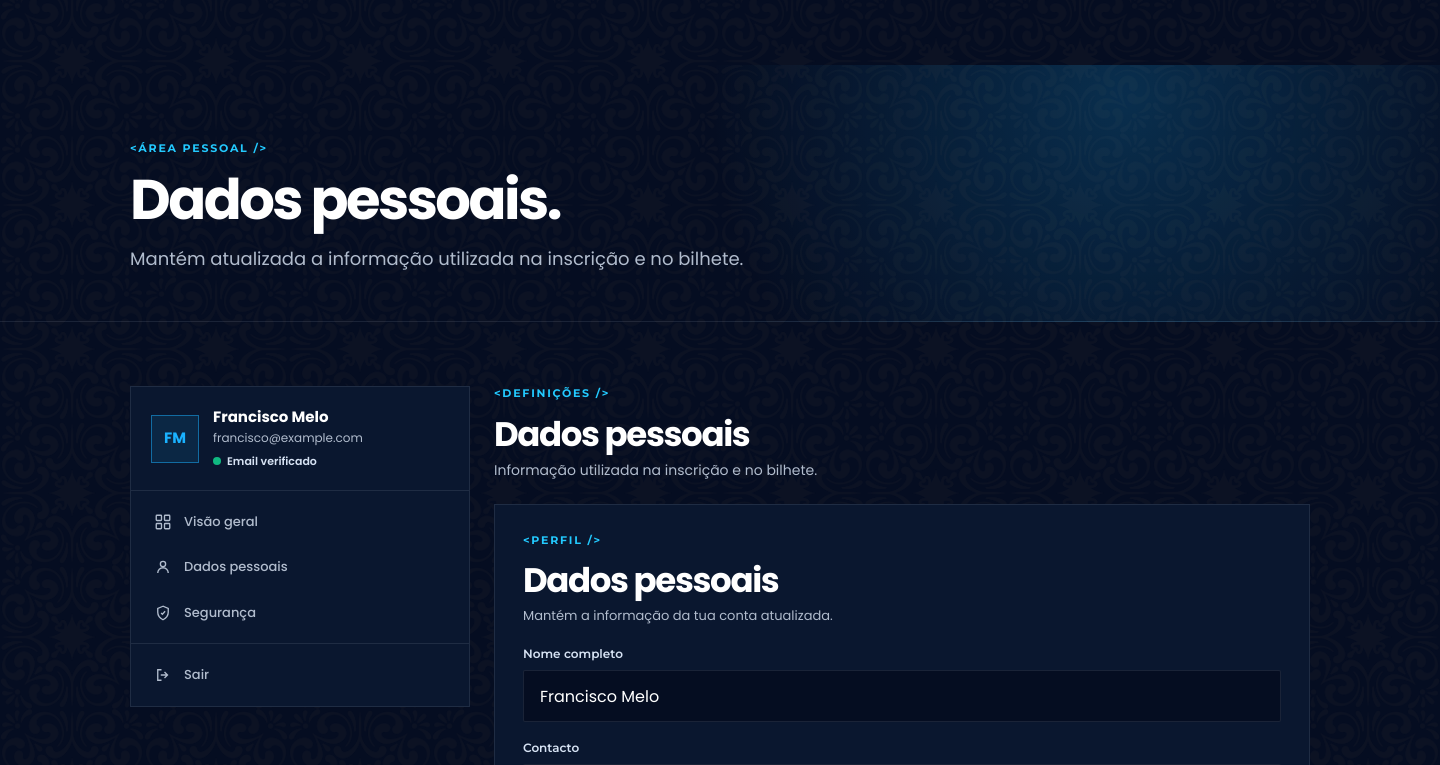
dados pessoais: só o nome se guarda, e pela API › envia só o nome a PUT /users/me, atualiza a conta e só depois diz que guardou
Replace the text in the field labelled "Nome completo" with "  Francisco M. Melo ". click: (902, 696)
box: [523,670,1281,722]
(page scrolled)
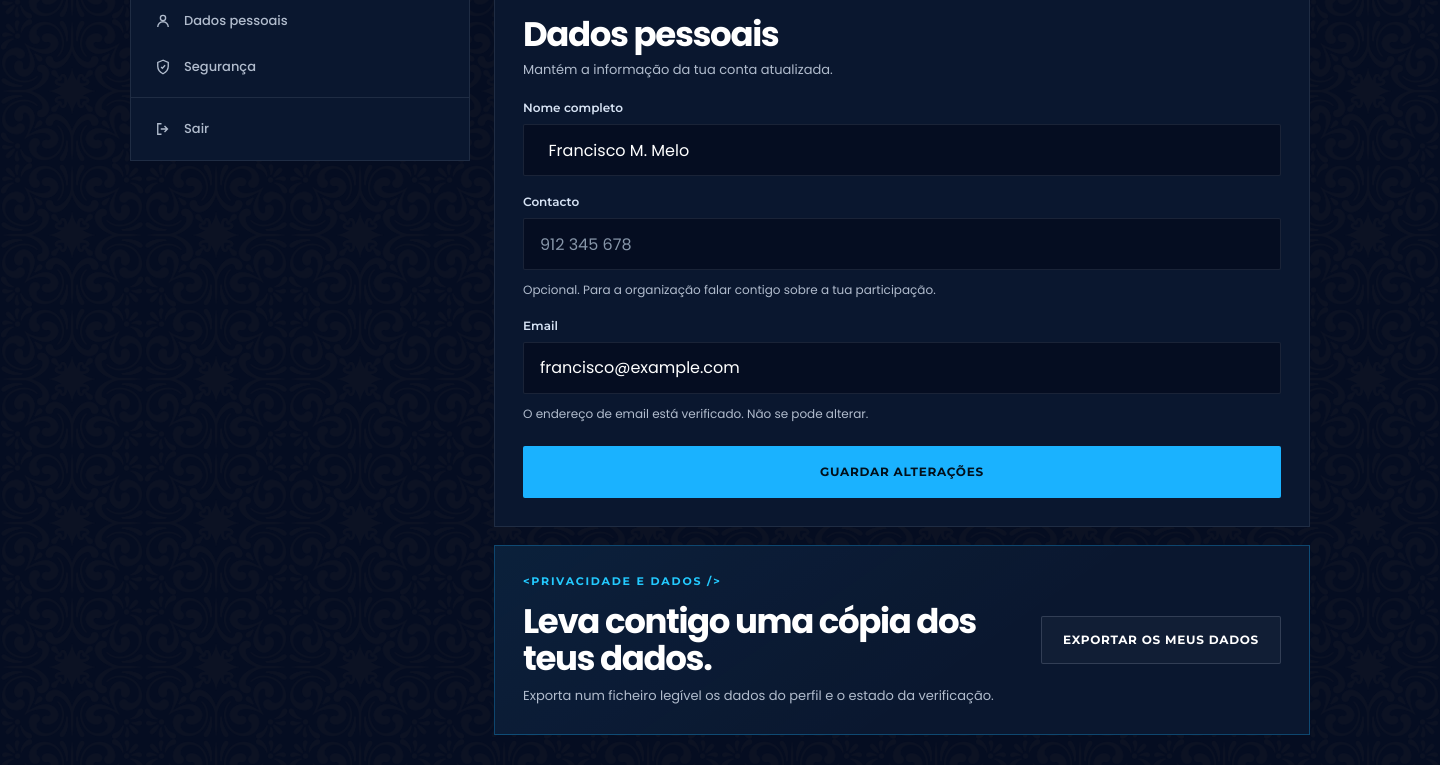
Click the button "Guardar alterações". click: (902, 472)
box: [523,446,1281,498]
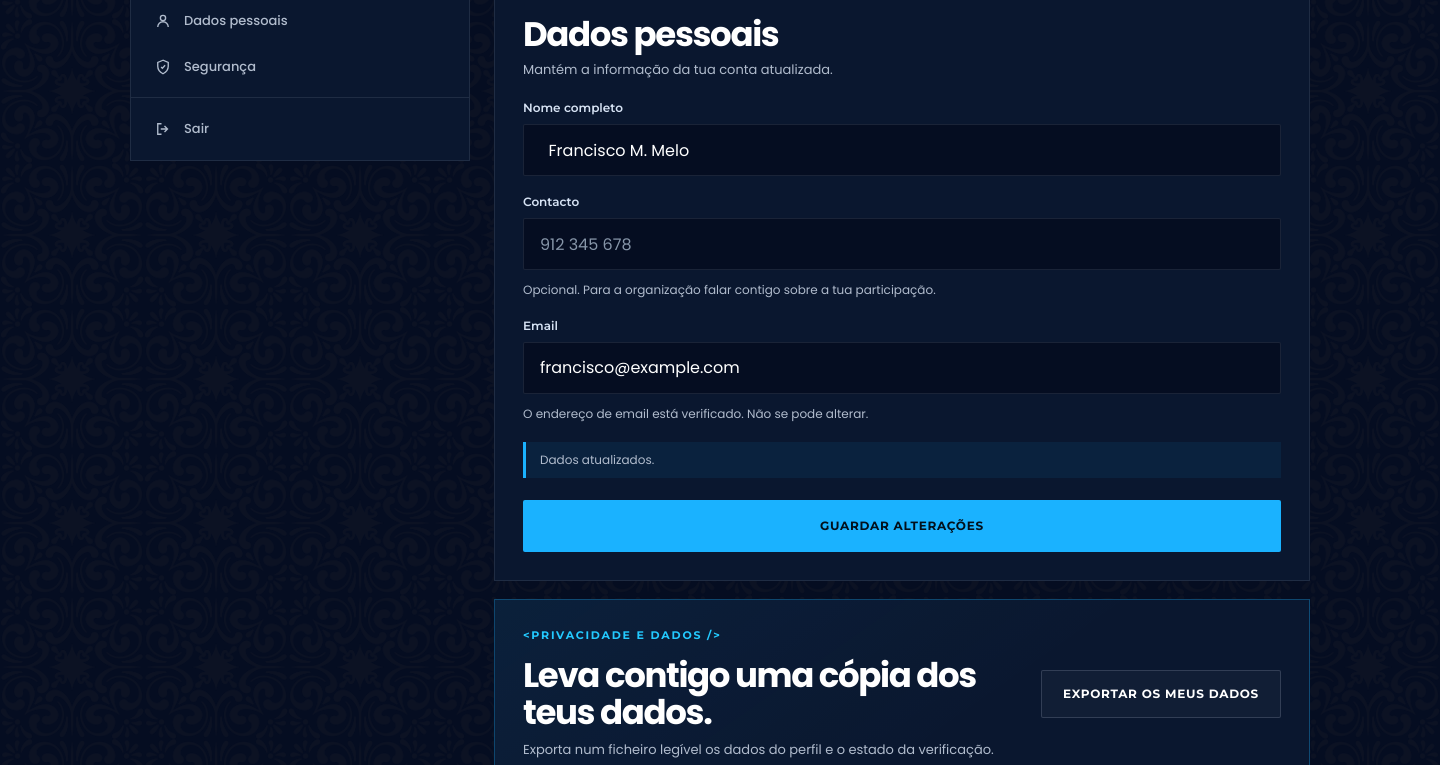
Result: the text "Dados atualizados." is shown at [523,442,1281,478]
